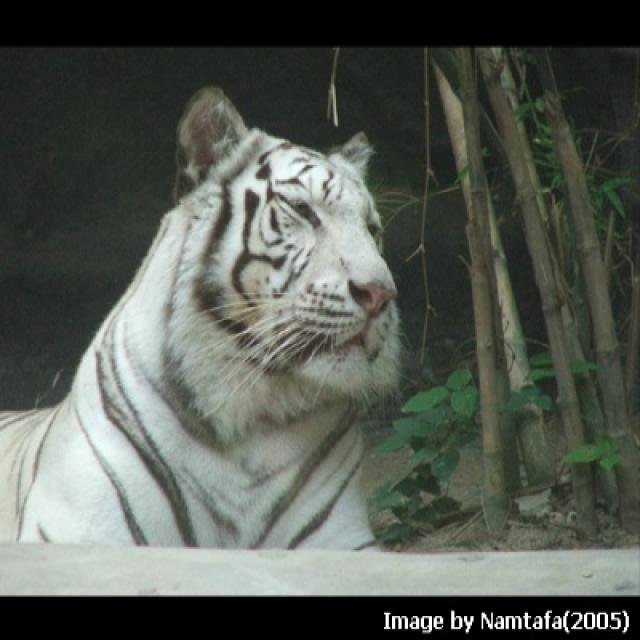Tiger: (0, 87, 402, 549)
